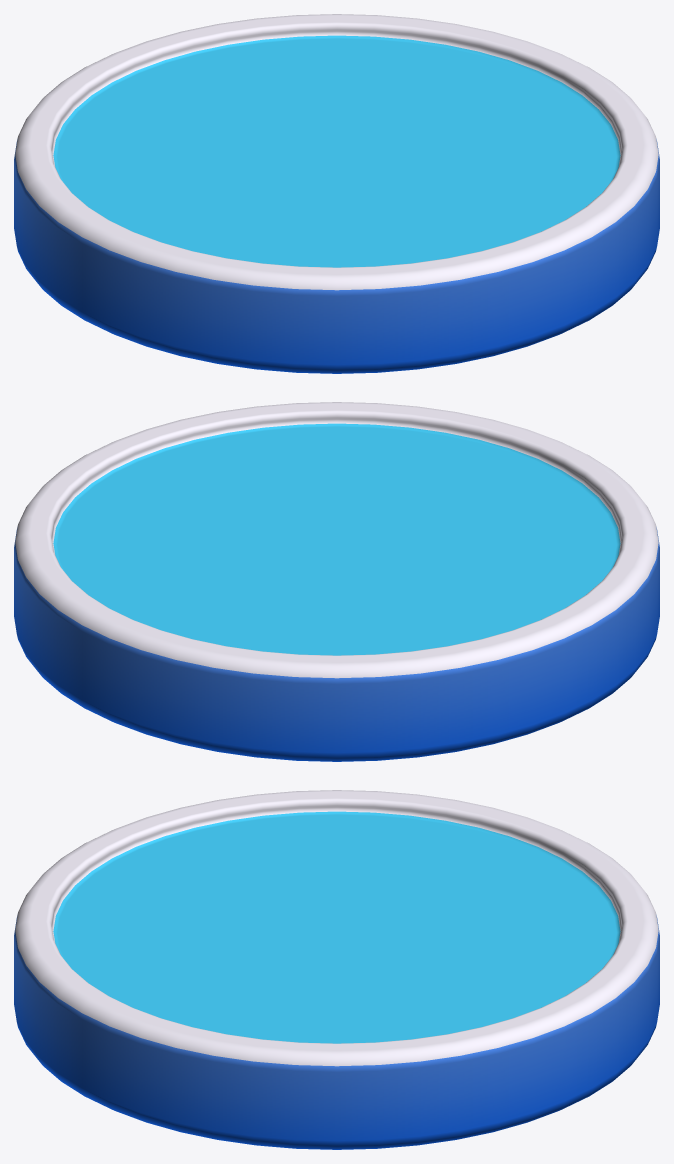
The model's file is round_platform_6.glb.
3 views of the same model, one above another, from view 1: azimuth 30°, elevation 25°; view 2: azimuth 150°, elevation 25°; view 3: azimuth 270°, elevation 25° (orthographic).
Visible parts, largest first — view 1: round_platform_6; view 2: round_platform_6; view 3: round_platform_6.
Boxes of the visible parts, x1,y1,x2,y2 form: round_platform_6: [14, 14, 659, 373]; round_platform_6: [14, 402, 659, 761]; round_platform_6: [14, 790, 659, 1149].
Bounding box in the file's own units: 6 × 1 × 6.
1 material, 1 textured.
